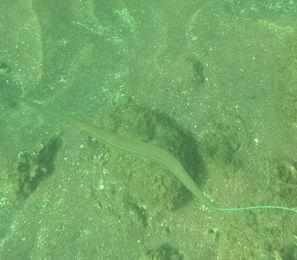Fistularia commersonii: (30, 88, 297, 232)
